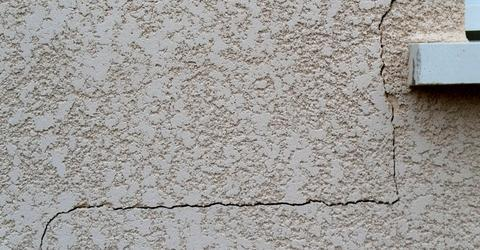crack: (38, 0, 399, 250)
